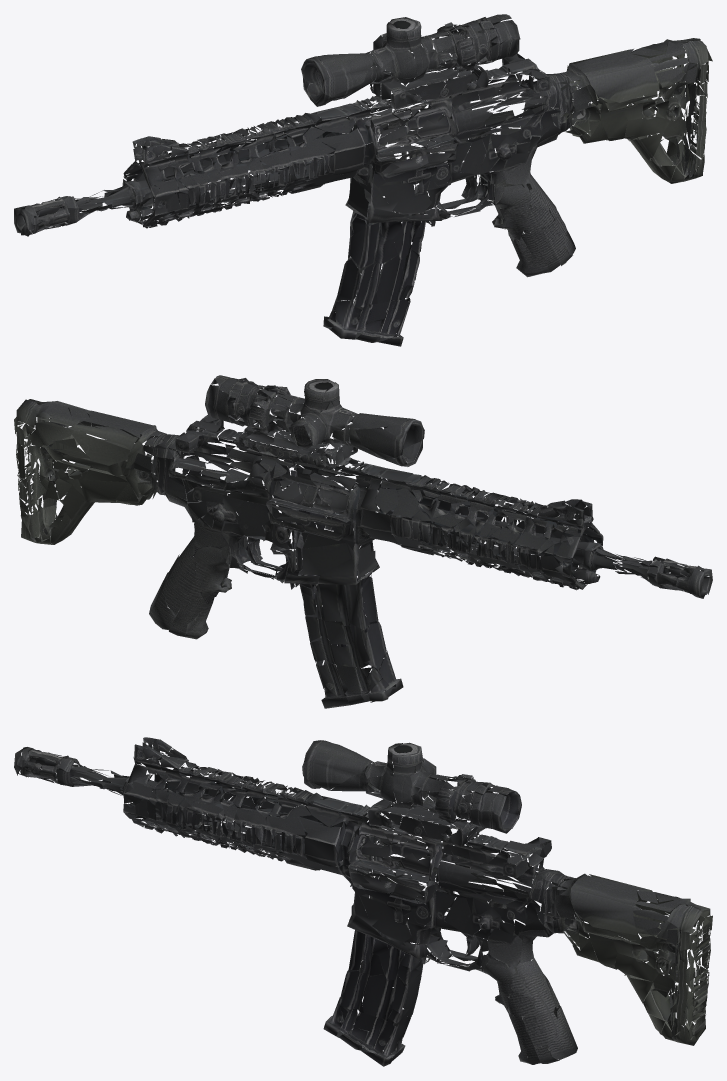
Rendered from tufek_piyade.glb.
3 renders of one model, top to bottom at view 1: azimuth 30°, elevation 25°; view 2: azimuth 150°, elevation 25°; view 3: azimuth 330°, elevation 25°, orthographic.
Parts seen in each view (by area): view 1: tufek_piyade; view 2: tufek_piyade; view 3: tufek_piyade.
Boxes of the visible parts, x1,y1,x2,y2 form: tufek_piyade: [14, 14, 712, 346]; tufek_piyade: [14, 375, 712, 708]; tufek_piyade: [14, 737, 712, 1066].
Size of the model in its own units: 0.95 by 0.4151 by 0.0962.
1 material, 1 textured.
